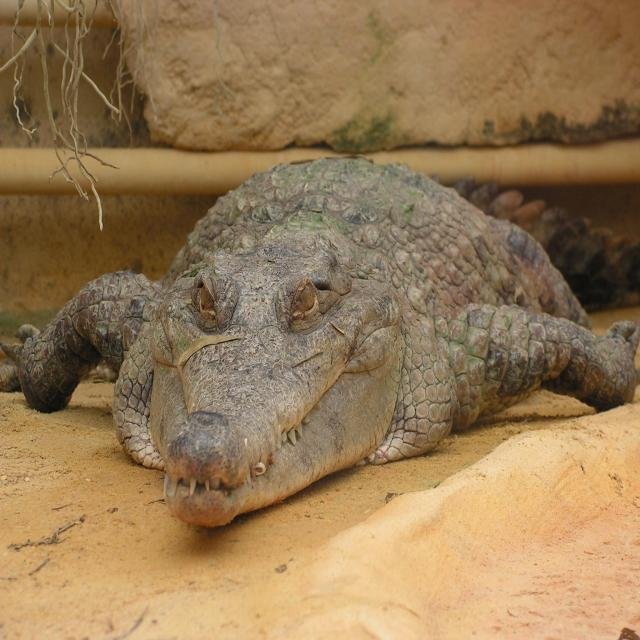crocodile: (14, 155, 640, 528)
